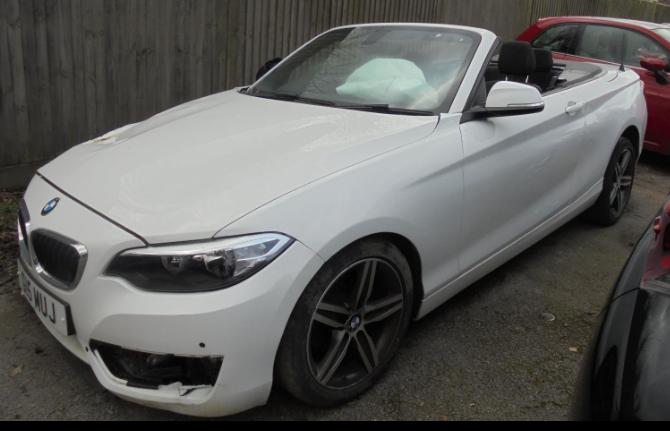Back-bumper: (638, 107, 648, 163)
Back-wheel: (580, 134, 636, 227)
Fender: (215, 29, 497, 298)
Front-bumper: (17, 173, 327, 417)
Front-door: (458, 86, 585, 275)
Front-wheel: (274, 240, 414, 408)
Grille: (31, 233, 79, 288), (18, 212, 28, 251)
Headlight: (103, 233, 295, 292)
Hood: (35, 85, 440, 245)
License-plate: (16, 256, 77, 336)
Mirror: (460, 80, 545, 122), (256, 57, 283, 81)
Quarter-panel: (569, 69, 647, 203)
Rocker-panel: (416, 176, 603, 322)
Tail-light: (639, 79, 646, 102)
Windshield: (246, 24, 484, 116)
